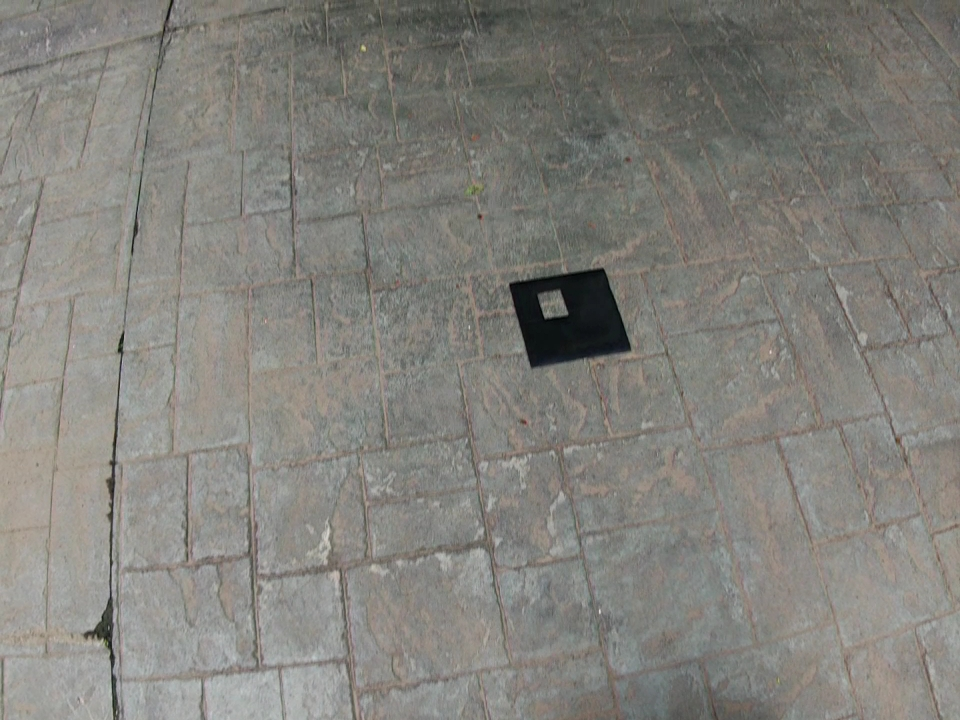qrcode: (509, 268, 631, 367)
